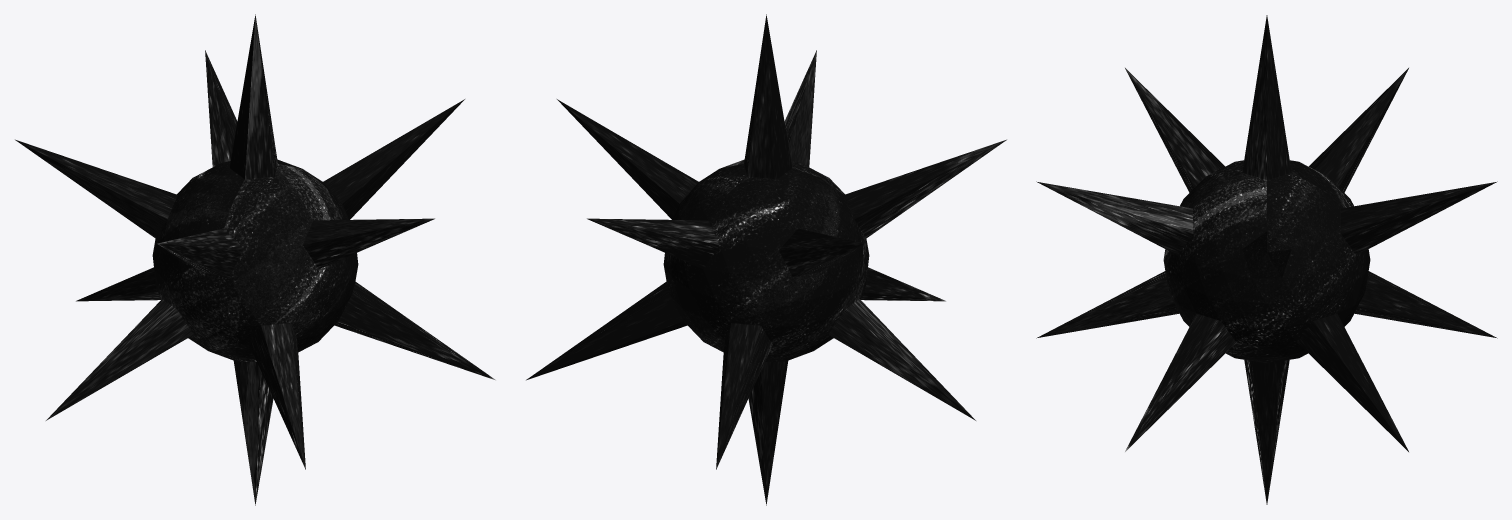
The model's file is Urchin1.fbx.
3 views of the same model, side by side, from view 1: azimuth 30°, elevation 25°; view 2: azimuth 150°, elevation 25°; view 3: azimuth 270°, elevation 25° (orthographic).
Parts seen in each view (by area): view 1: 성게; view 2: 성게; view 3: 성게.
Boxes of the visible parts, left/top/right/bottom form: 성게: left=15, top=14, right=495, bottom=505; 성게: left=526, top=14, right=1006, bottom=505; 성게: left=1036, top=15, right=1497, bottom=504.
Bounding box in the file's own units: 368 × 412 × 350.
1 material, 1 textured.
